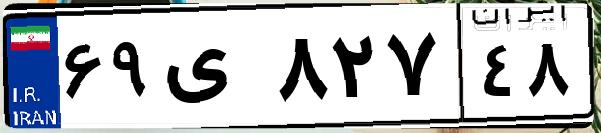2: (330, 28, 385, 110)
4: (475, 38, 525, 113)
6: (57, 26, 110, 100)
7: (385, 28, 445, 110)
8: (270, 28, 330, 110), (525, 38, 570, 115)
9: (110, 28, 158, 98)
ی: (158, 20, 270, 120)
